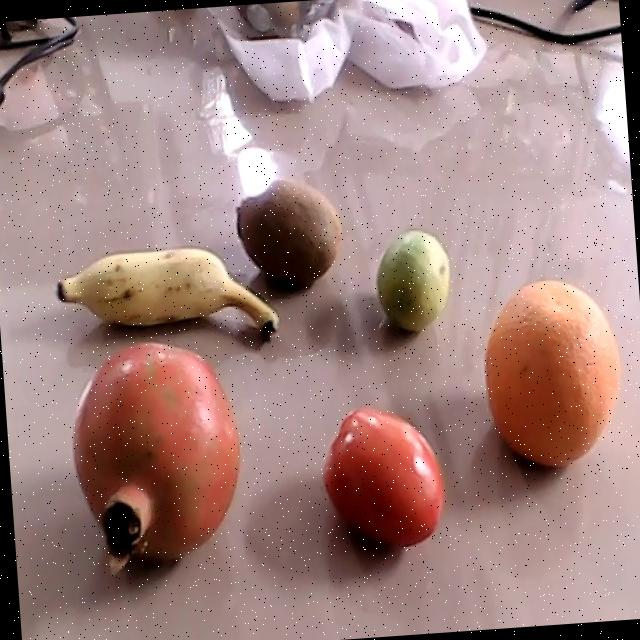kiwi: (232, 178, 343, 279)
lemon: (376, 229, 449, 331)
orange: (486, 279, 620, 467)
pomegranate: (71, 341, 239, 576)
tomato: (321, 407, 445, 548)
